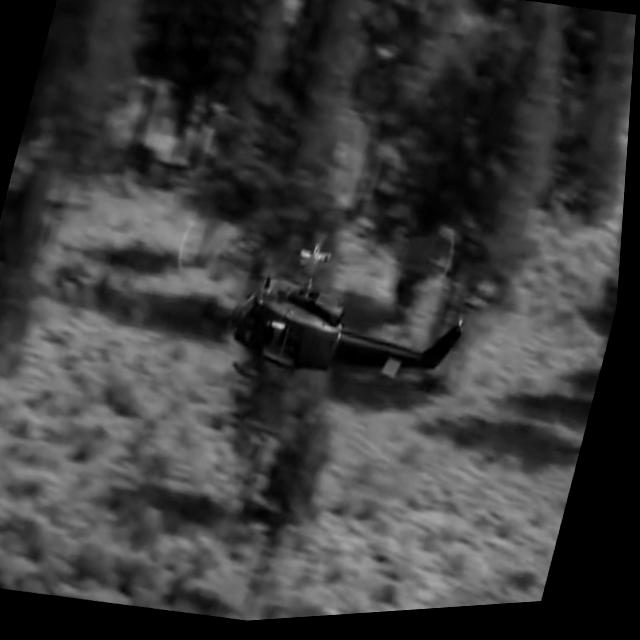helikopter: (200, 220, 493, 443)
